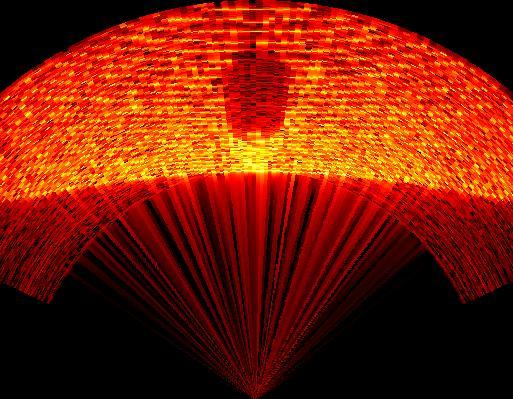box_crate: (224, 44, 290, 142)
